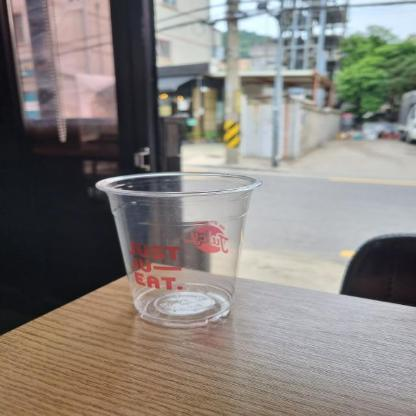Plastic Cup: (96, 170, 262, 330)
